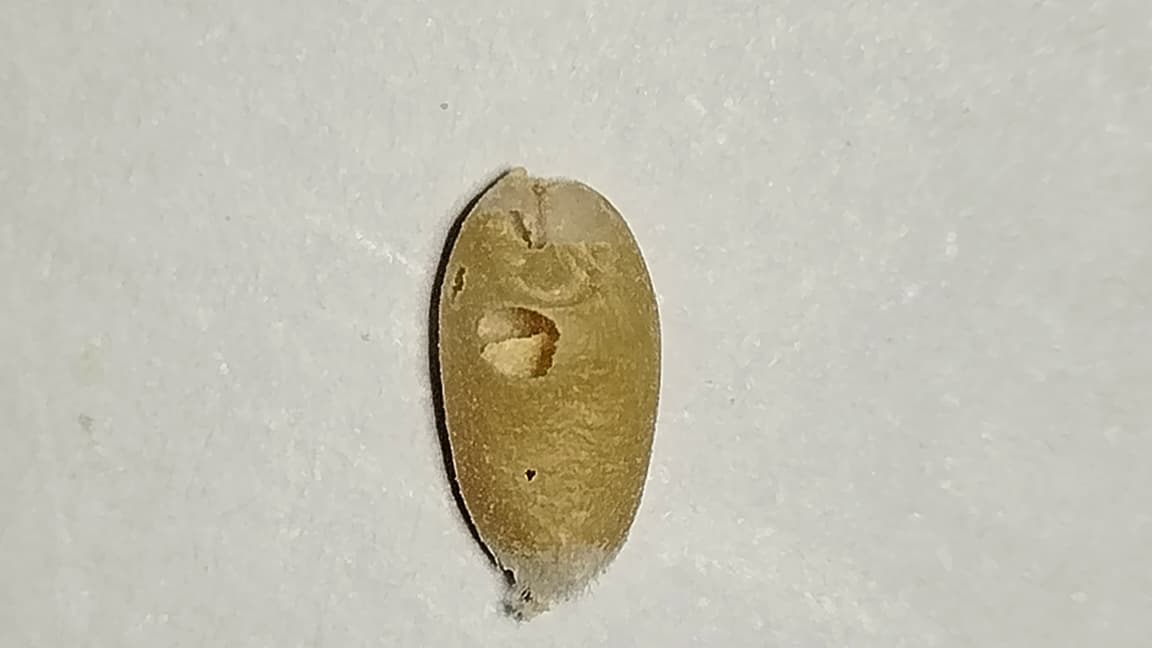damage: (439, 176, 658, 615)
insectdamage: (437, 186, 598, 380)
